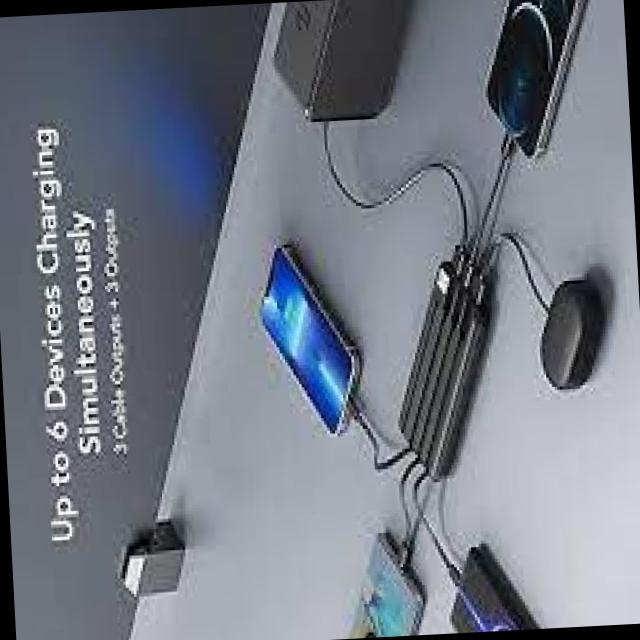portable-charger: (386, 240, 510, 484)
